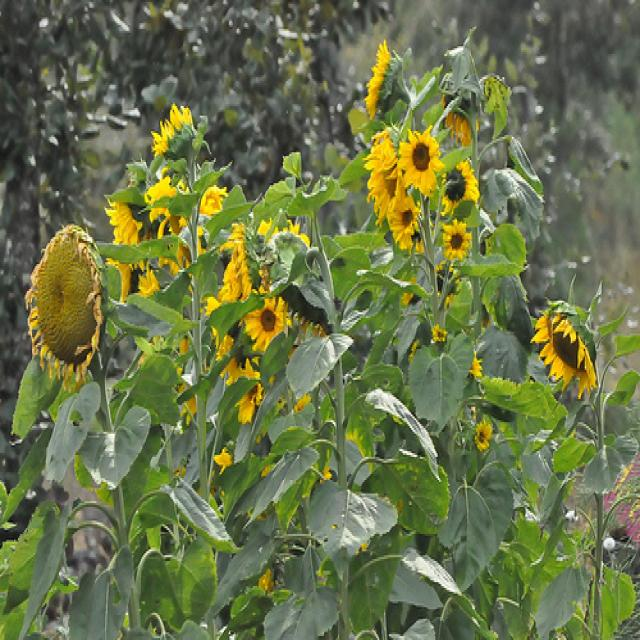sunflower: (27, 226, 100, 385), (533, 292, 601, 401), (396, 128, 440, 192), (365, 41, 401, 115), (150, 106, 201, 154), (114, 250, 158, 305), (245, 293, 287, 349), (385, 192, 421, 250), (441, 159, 477, 211), (444, 217, 470, 266)
